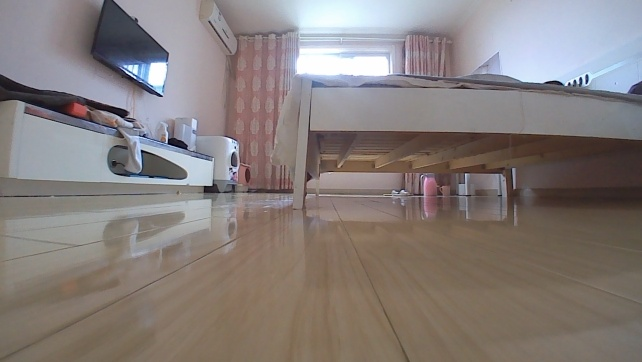TV_stand: (0, 92, 216, 199)
bed: (266, 32, 641, 212)
